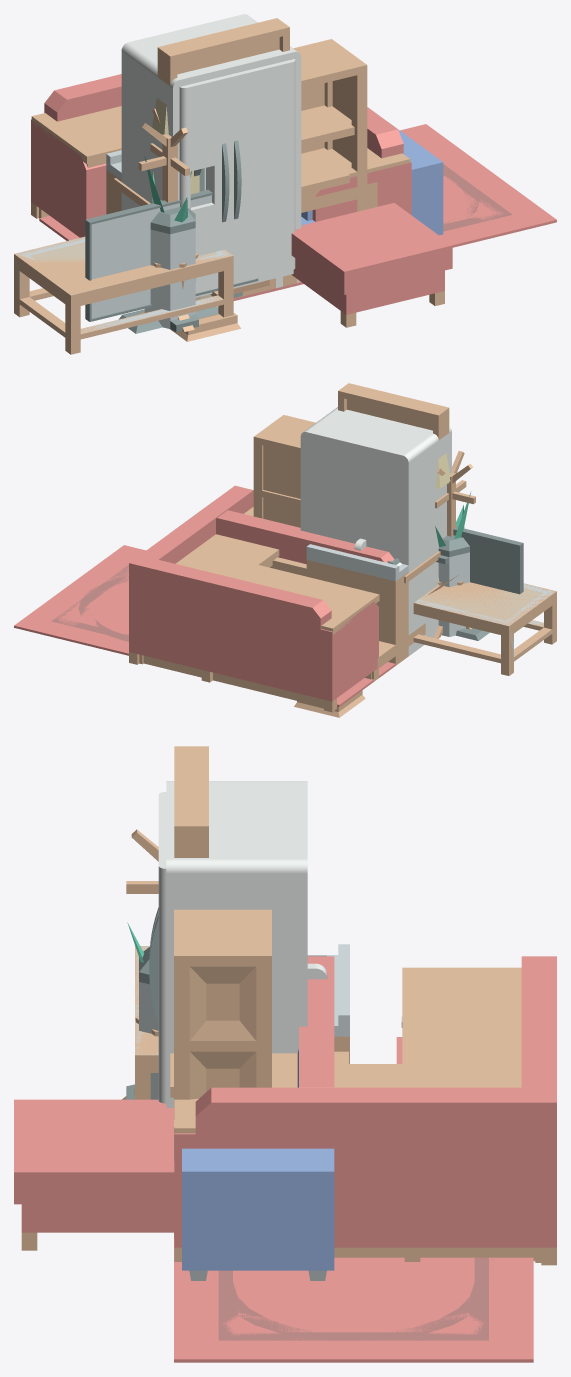
Rendered from muebles.glb.
The picture shows the model from 3 angles, top to bottom: view 1: azimuth 30°, elevation 25°; view 2: azimuth 150°, elevation 25°; view 3: azimuth 270°, elevation 25°; orthographic projection. The views are drawn at different scales.
Parts seen in each view (by area): view 1: doorRight, loungeSofaLong(Clone), loungeSofaCorner(Clone), Mesh kitchenFridgeLarge, tableCoffee(Clone), rugRectangle(Clone), doorLeft, bookcaseClosedWide(Clone), televisionModern(Clone), Mesh deskCorner, trashcan(Clone), Mesh doorway (+11 smaller); view 2: loungeSofaCorner(Clone), Mesh kitchenFridgeLarge, Mesh deskCorner, tableCoffee(Clone), rugRectangle(Clone), bookcaseClosedWide(Clone), Mesh kitchenCabinet, rugRounded(Clone), televisionModern(Clone), loungeSofaLong(Clone), tableCoffeeGlass(Clone), Mesh doorway (+7 smaller); view 3: loungeSofaCorner(Clone), loungeSofaLong(Clone), Mesh kitchenFridgeLarge, rugRectangle(Clone), rugRounded(Clone), loungeDesignSofa(Clone), Mesh deskCorner, bookcaseClosedWide(Clone), loungeSofa(Clone), Mesh doorway, doorRight, Mesh kitchenSink (+5 smaller).
Part boxes in pixels (x1,y1,x2,y2): doorRight: (227, 59, 295, 284); loungeSofaLong(Clone): (291, 203, 452, 327); loungeSofaCorner(Clone): (31, 74, 411, 237); Mesh kitchenFridgeLarge: (121, 14, 301, 297); tableCoffee(Clone): (14, 236, 233, 354); rugRectangle(Clone): (39, 124, 556, 300); doorLeft: (179, 75, 229, 293); bookcaseClosedWide(Clone): (293, 39, 367, 211); televisionModern(Clone): (85, 189, 258, 333); Mesh deskCorner: (31, 106, 410, 218); trashcan(Clone): (144, 200, 198, 332); Mesh doorway: (157, 18, 289, 286); loungeSofaCorner(Clone): (129, 485, 378, 712); Mesh kitchenFridgeLarge: (300, 407, 451, 655); Mesh deskCorner: (139, 507, 379, 708); tableCoffee(Clone): (413, 582, 556, 675); rugRectangle(Clone): (14, 545, 395, 706); bookcaseClosedWide(Clone): (253, 415, 315, 527); Mesh kitchenCabinet: (306, 547, 395, 663); rugRounded(Clone): (54, 566, 128, 653); televisionModern(Clone): (453, 526, 523, 640); loungeSofaLong(Clone): (216, 511, 394, 564); tableCoffeeGlass(Clone): (415, 583, 555, 659); Mesh doorway: (338, 383, 449, 440); loungeSofaCorner(Clone): (174, 956, 556, 1265); loungeSofaLong(Clone): (14, 1006, 334, 1250); Mesh kitchenFridgeLarge: (166, 781, 307, 1107); rugRectangle(Clone): (174, 1257, 533, 1362); rugRounded(Clone): (174, 1239, 533, 1351); loungeDesignSofa(Clone): (182, 1057, 334, 1280); Mesh deskCorner: (174, 967, 541, 1262); bookcaseClosedWide(Clone): (174, 909, 271, 1119); loungeSofa(Clone): (182, 1006, 334, 1148); Mesh doorway: (174, 746, 208, 857); doorRight: (149, 823, 166, 1103); Mesh kitchenSink: (307, 944, 349, 1063).
Bounding box in the file's own units: 2.03 × 1.28 × 1.39.
